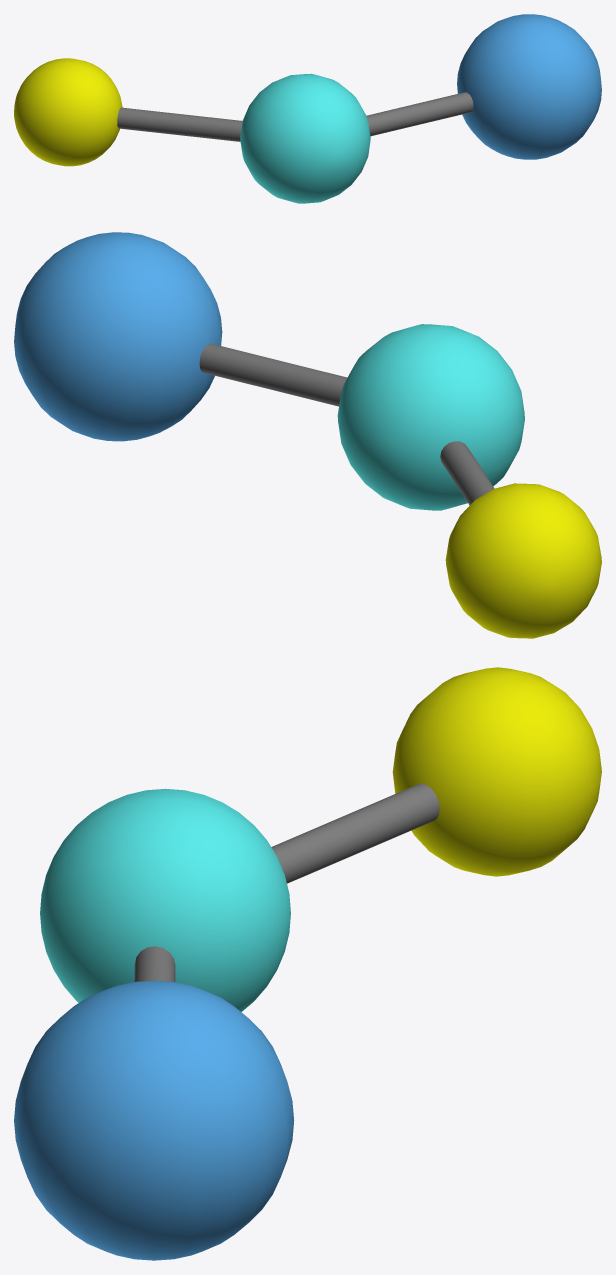
File: NaHS.fbx
3 renders of one model, top to bottom at view 1: azimuth 30°, elevation 25°; view 2: azimuth 150°, elevation 25°; view 3: azimuth 270°, elevation 25°, orthographic. The views are drawn at different scales.
Parts seen in each view (by area): view 1: NaHS; view 2: NaHS; view 3: NaHS.
Part boxes in pixels (x1,y1,x2,y2): NaHS: (14,14,601,203); NaHS: (14,232,601,638); NaHS: (14,667,601,1260).
Size of the model in its own units: 8.52 by 2.23 by 4.69.
